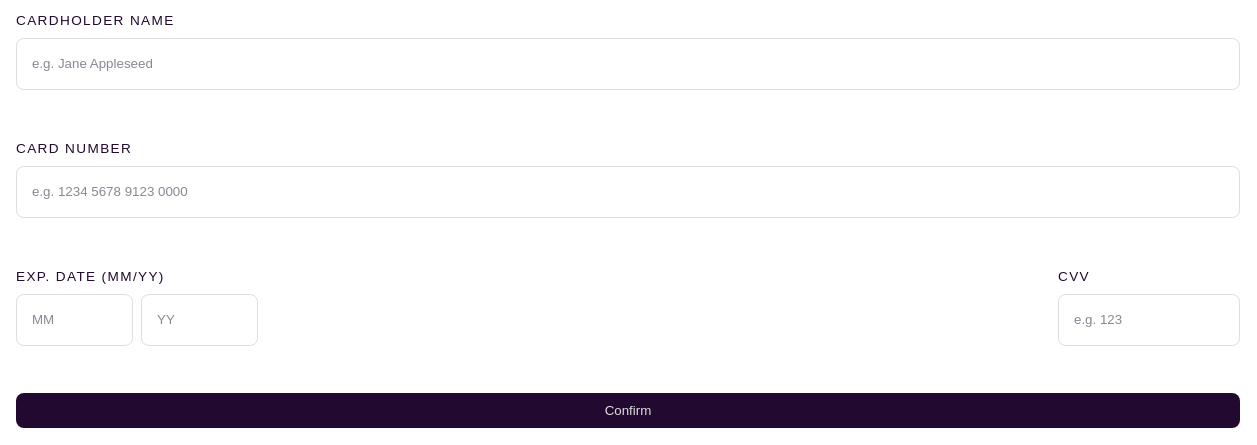
Test: AddCardForm › Should display an error if CVV code is invalid
In the field with placeholder "e.g. 123": [1149, 320] box left=1058, top=294, right=1240, bottom=346, type "344k"
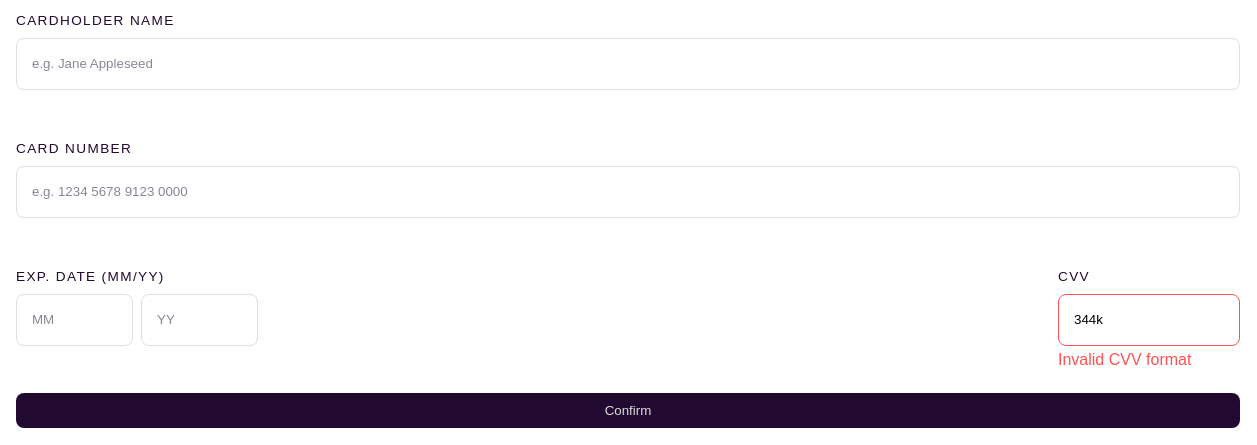
Check: the text "Invalid CVV format" is shown, box left=1058, top=350, right=1191, bottom=368
